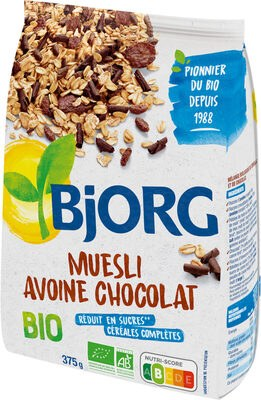Muesli avoine chocolat bio: (13, 20, 248, 380)
